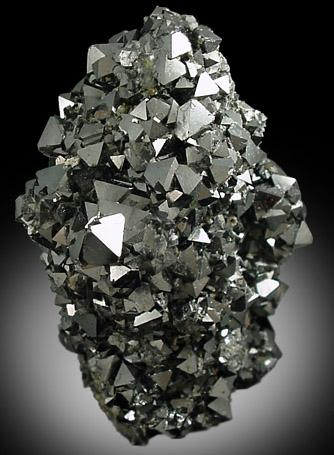magnetite: (15, 7, 313, 446)
